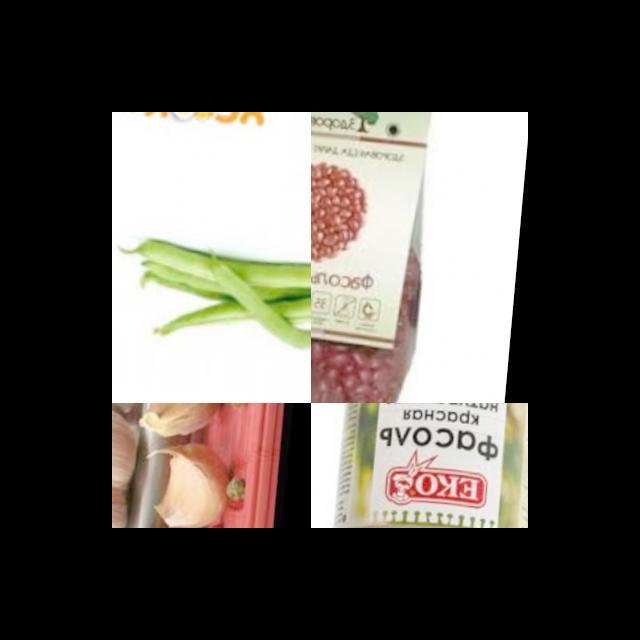garlic: (149, 431, 238, 528), (141, 403, 222, 440)
